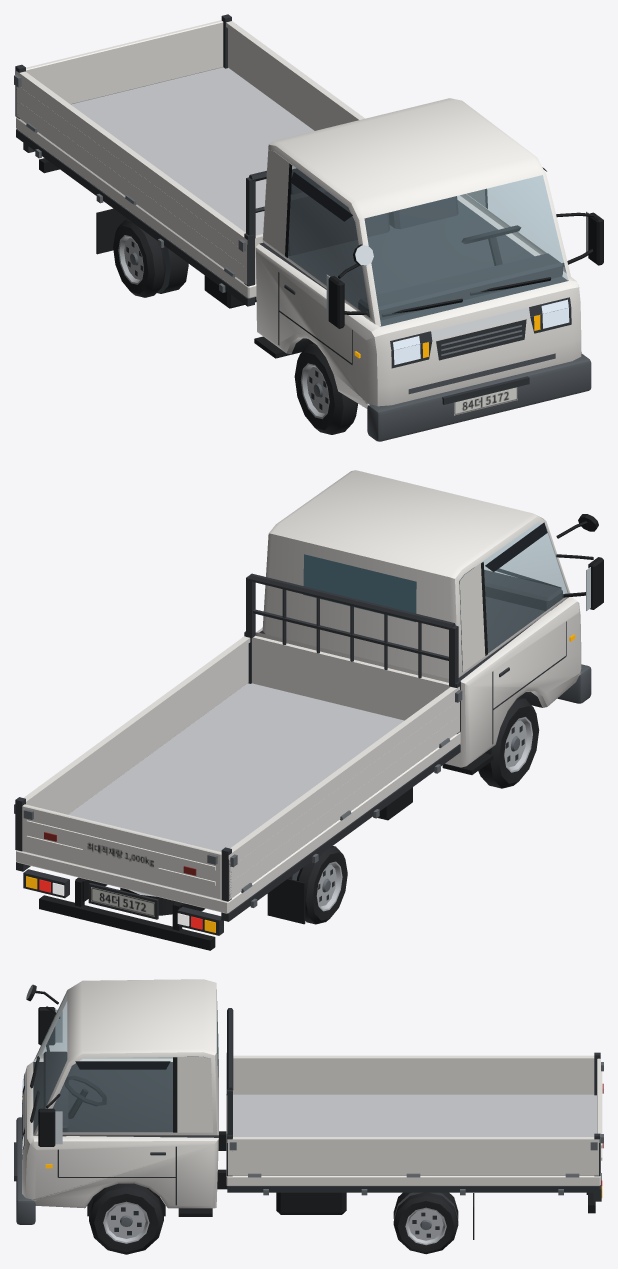
File: SC_Veh_Truck_1Ton_White.gltf
3 renders of one model, top to bottom at view 1: azimuth 30°, elevation 25°; view 2: azimuth 150°, elevation 25°; view 3: azimuth 270°, elevation 25°, orthographic. The views are drawn at different scales.
Parts seen in each view (by area): view 1: SC_Veh_Truck_1Ton_White; view 2: SC_Veh_Truck_1Ton_White; view 3: SC_Veh_Truck_1Ton_White.
Part boxes in pixels (x1,y1,x2,y2): SC_Veh_Truck_1Ton_White: [14, 14, 603, 441]; SC_Veh_Truck_1Ton_White: [14, 470, 603, 950]; SC_Veh_Truck_1Ton_White: [14, 979, 603, 1254].
Bounding box in the file's own units: 2.18 × 1.97 × 5.2.
4 materials, 4 textured.
